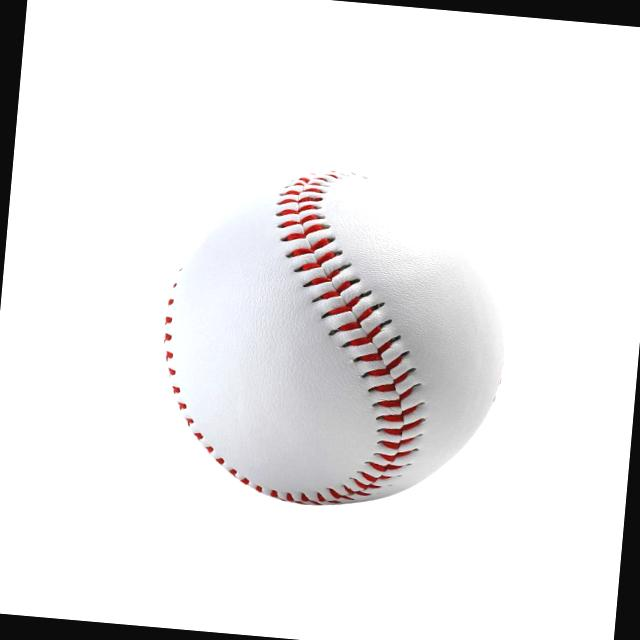ball: (140, 149, 530, 524)
